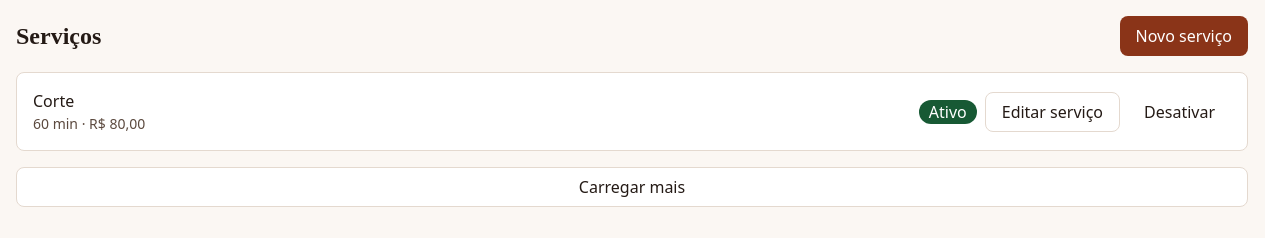
Test case: ServicesList › loads the next page of services when "Carregar mais" is clicked
Expected: the text "Corte" is shown, [33,90,74,112]
Expected: the text "Escova" is not shown
Step 1. Click the button "Carregar mais" → (632, 187), box [16,167,1248,207]
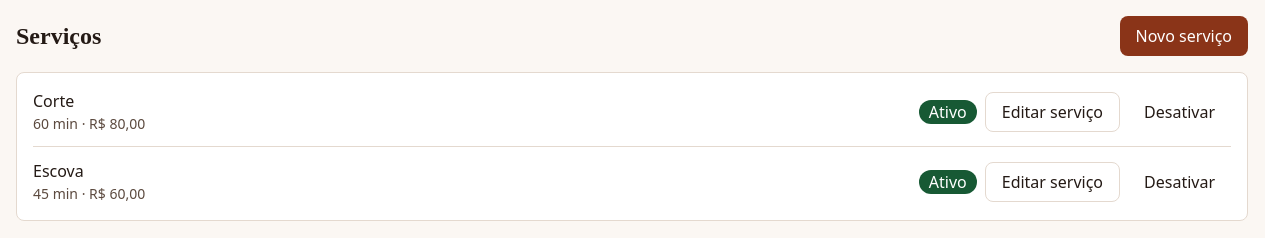
Expected: the text "Escova" is shown, [33,160,84,182]
